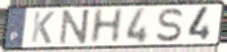4: (187, 5, 215, 44), (124, 7, 150, 45)
H: (88, 7, 126, 45)
K: (29, 10, 57, 45)
N: (58, 8, 92, 46)
S: (155, 7, 185, 44)
